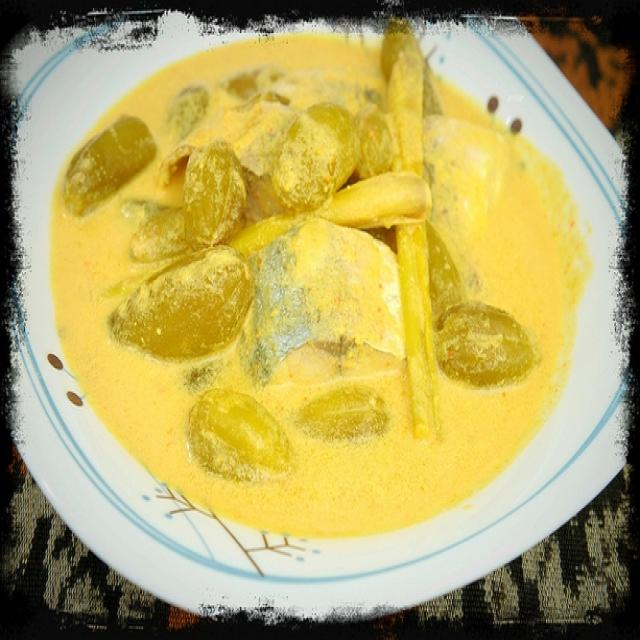熟制海鲜: (18, 25, 619, 618)
